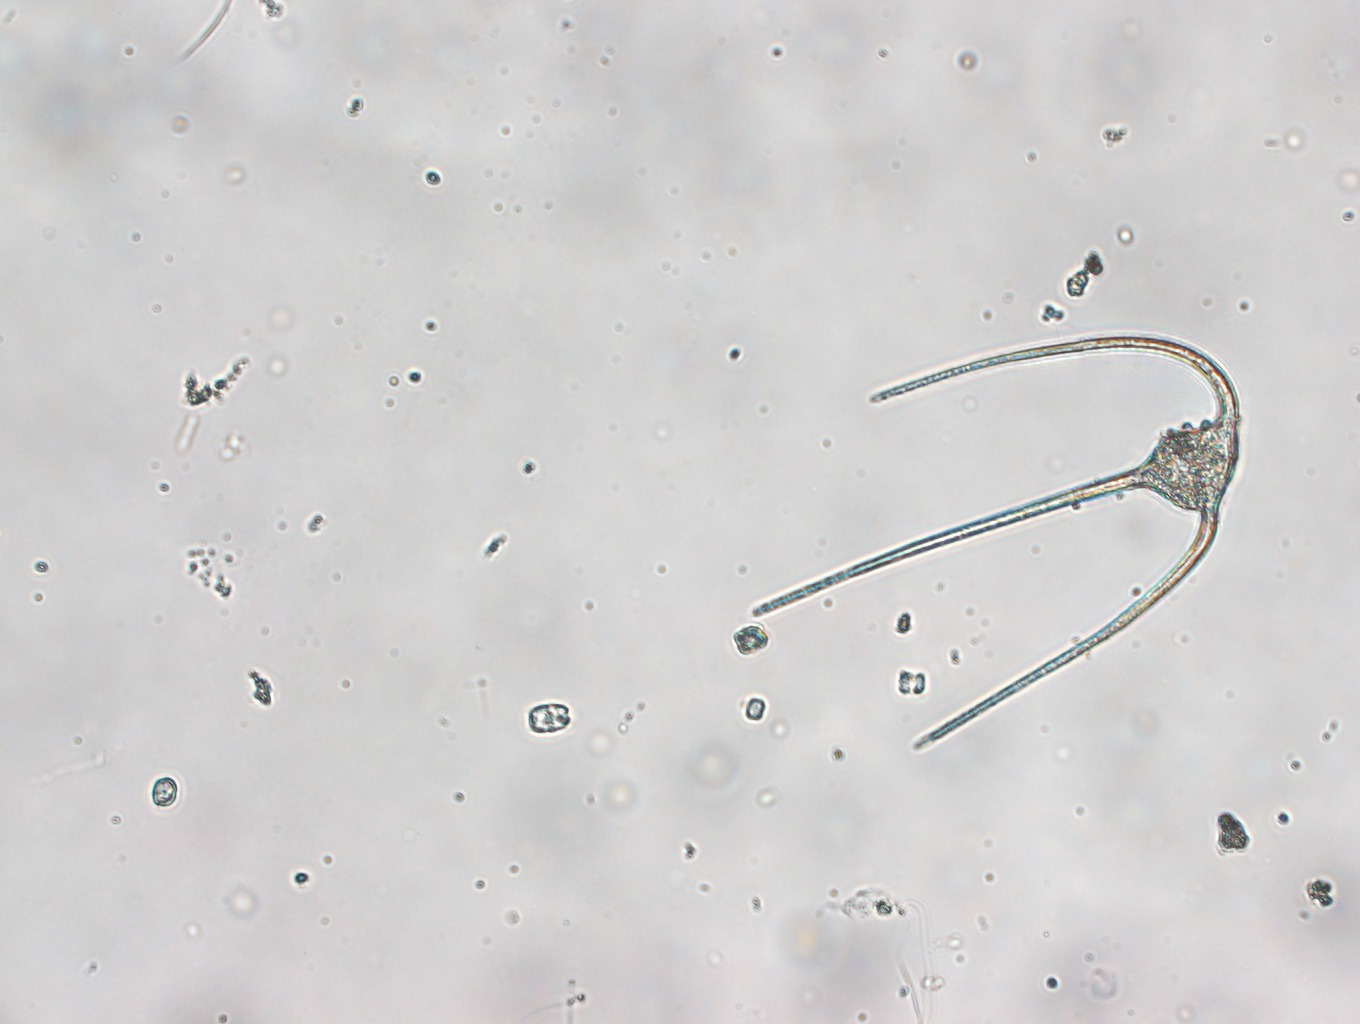ceratium trichoceros: (751, 333, 1241, 753)
